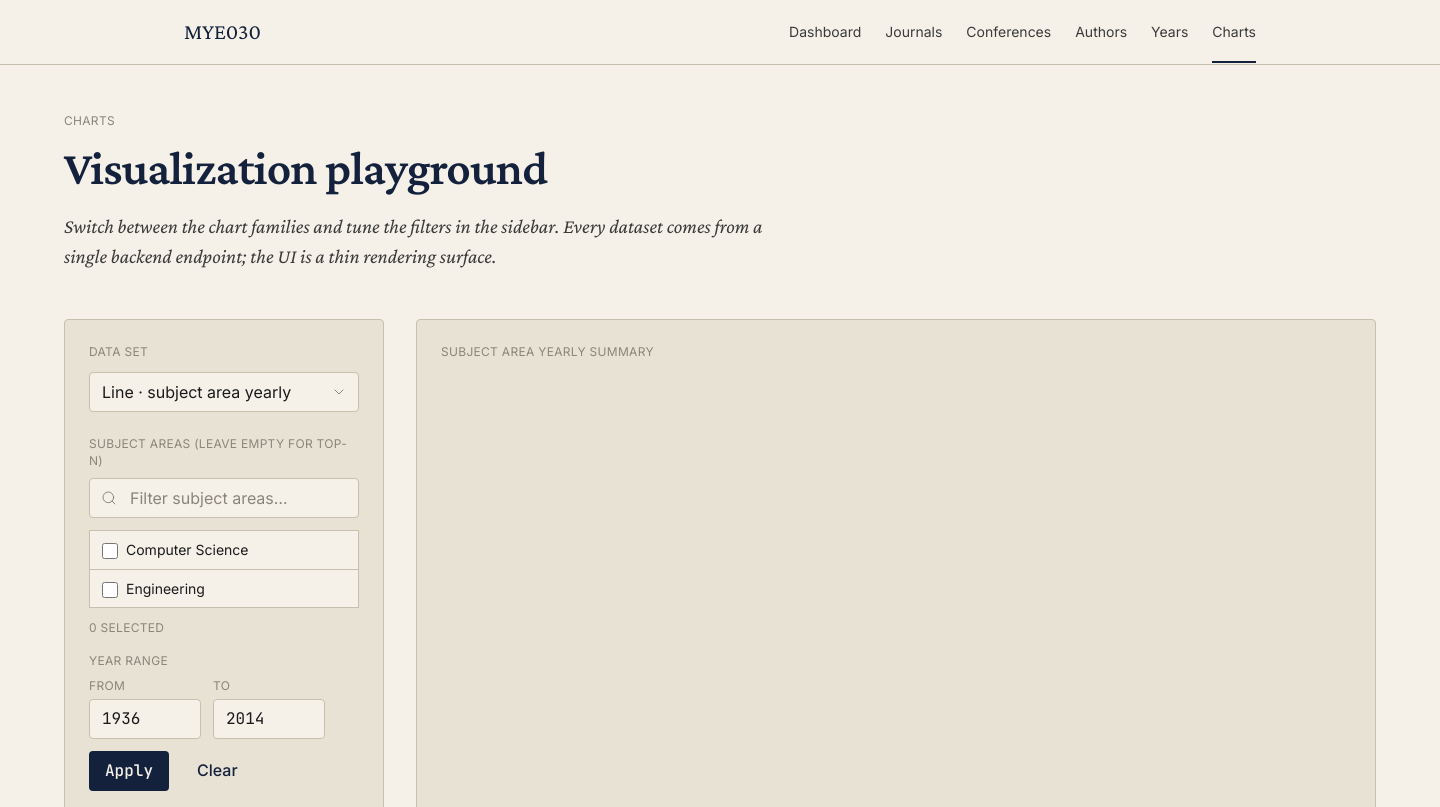
Scenario: /charts playground › switches to the publisher quartile bar chart
Select "Bar · publisher quartile" in the dropdown named "chart type": [224, 392] box 89,372 -> 359,412
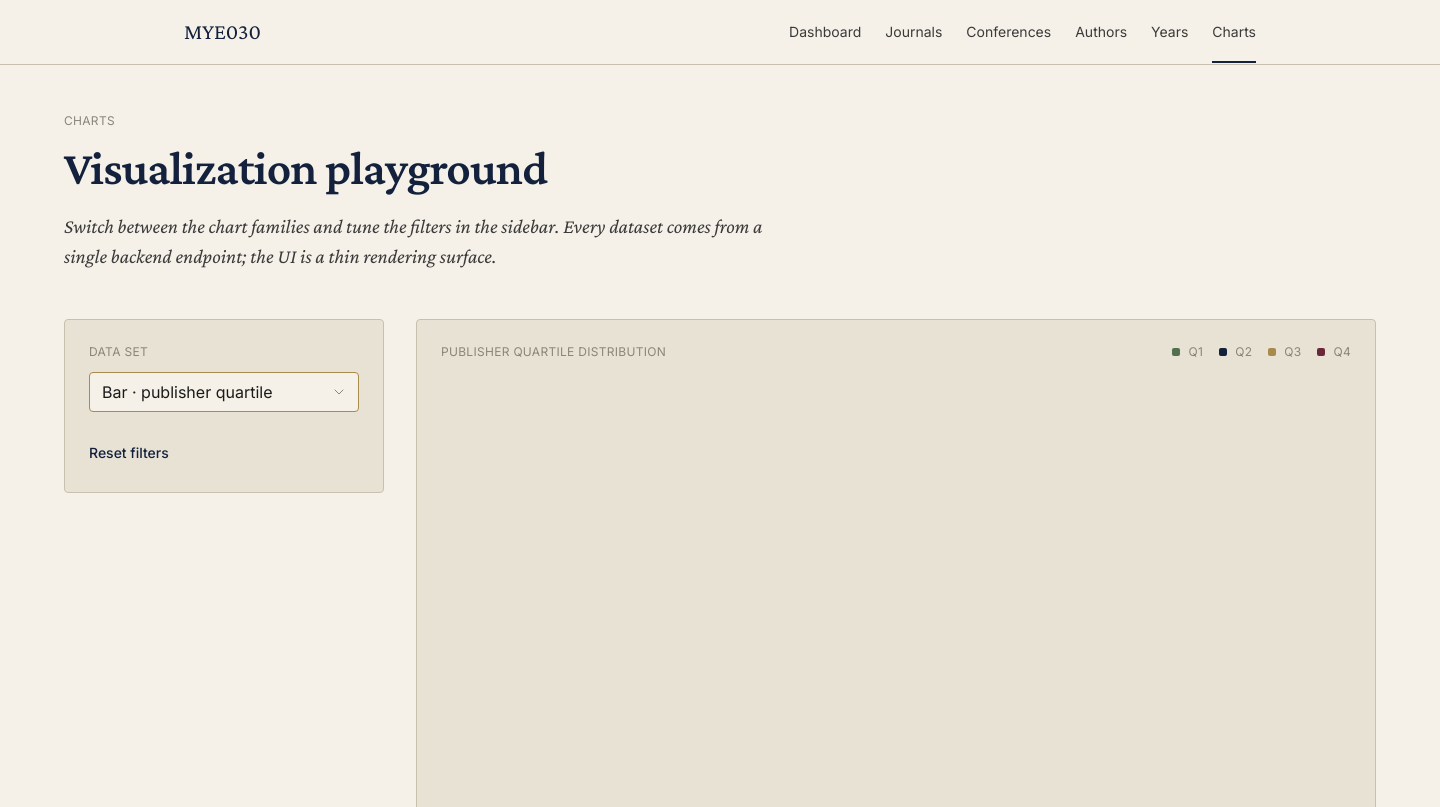
Check: the text "Publisher quartile distribution" is shown, box 441,344 -> 666,360
